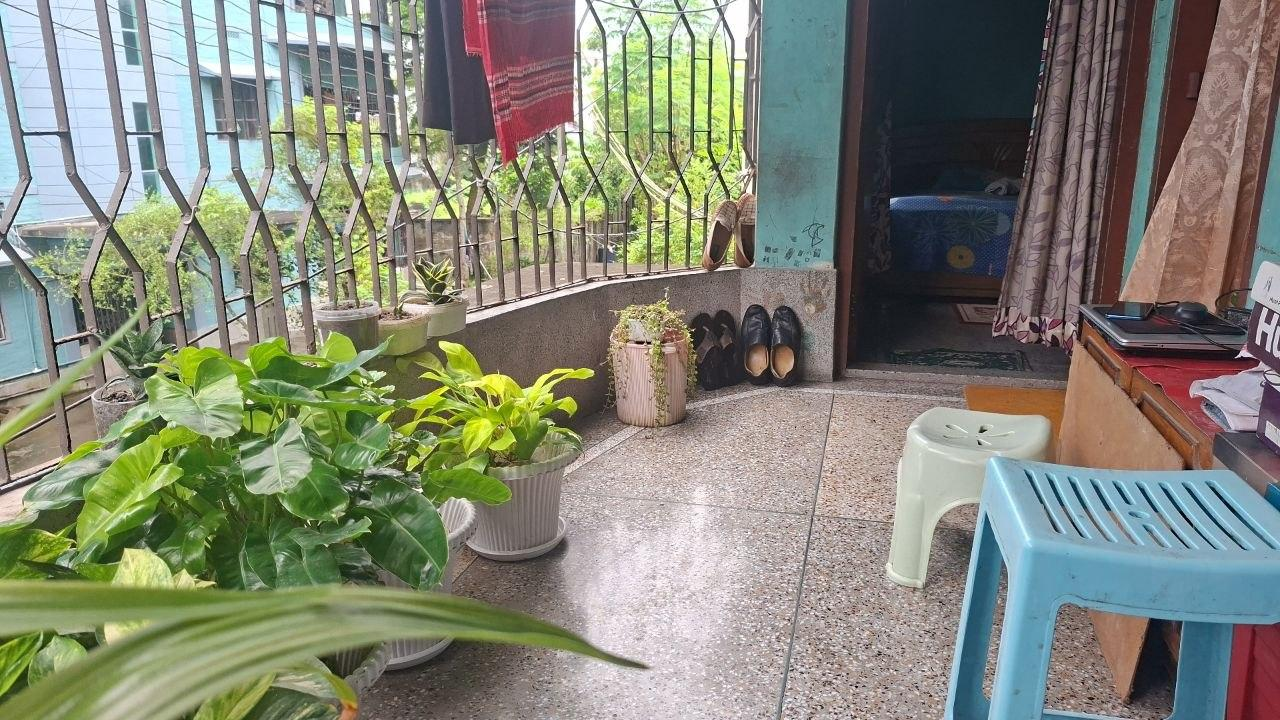Footwear: (949, 448, 1280, 720), (679, 302, 758, 396), (706, 189, 760, 272), (733, 308, 784, 379), (765, 306, 819, 373)
Laptop: (1081, 289, 1255, 356)
Mouse: (1144, 287, 1238, 327)
Phone: (1102, 287, 1161, 329)
Plant: (0, 365, 438, 716), (429, 413, 587, 570), (371, 283, 469, 354), (304, 293, 388, 365)
Stool: (895, 402, 1062, 618)
Towel: (448, 0, 635, 159)
